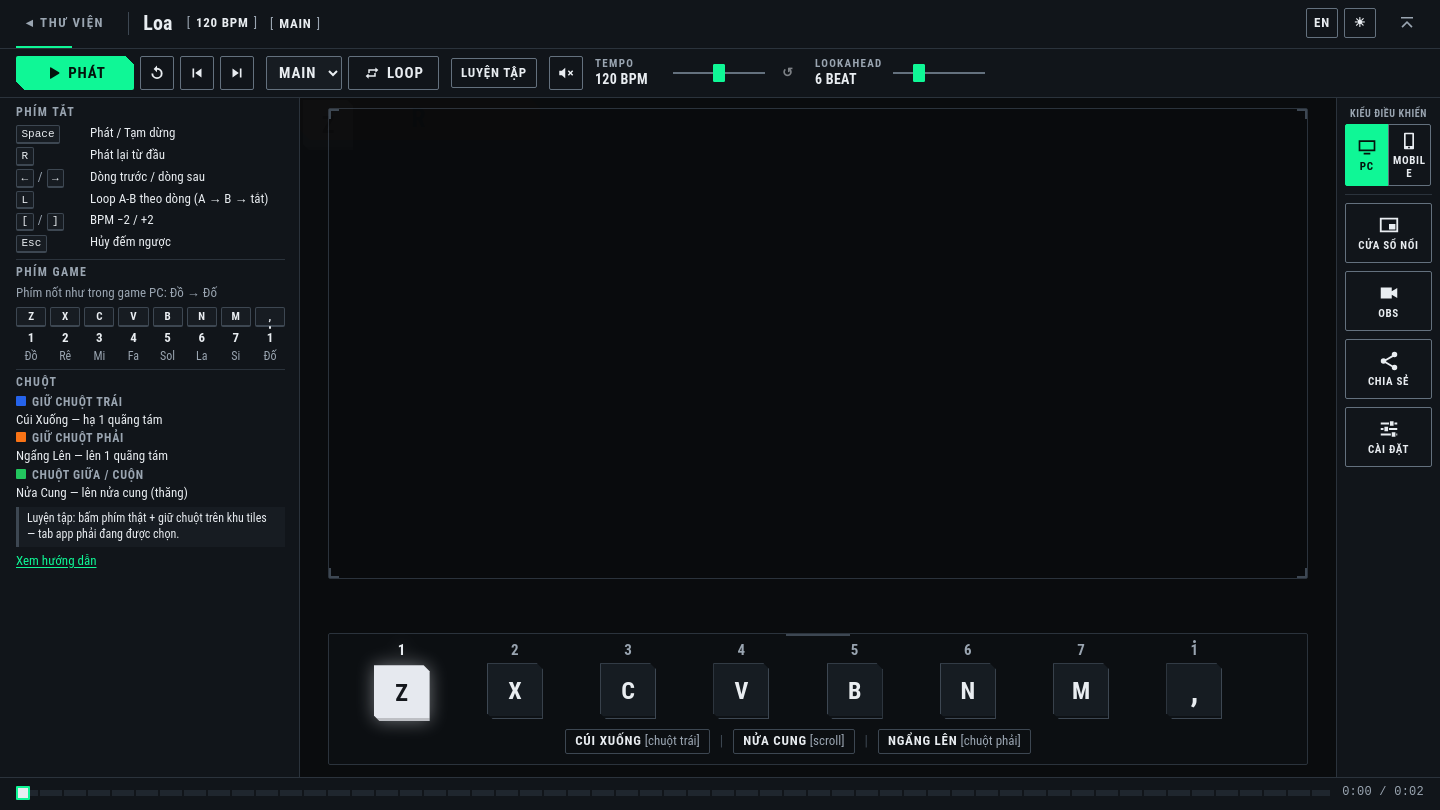
Test: màn chơi — nút loa (giai điệu mẫu) › "Tôi hiểu, bật" → bật (qua engine — mở khóa âm thanh trong cú bấm) + huy hiệu đỏ; tooltip thành "Tắt tiếng"
Press the mouse on the button named "Tiếng giai điệu" at (566, 73), box [549,56,583,90]
Press the mouse on the button named "Tiếng giai điệu" at (566, 73), box [549,56,583,90]
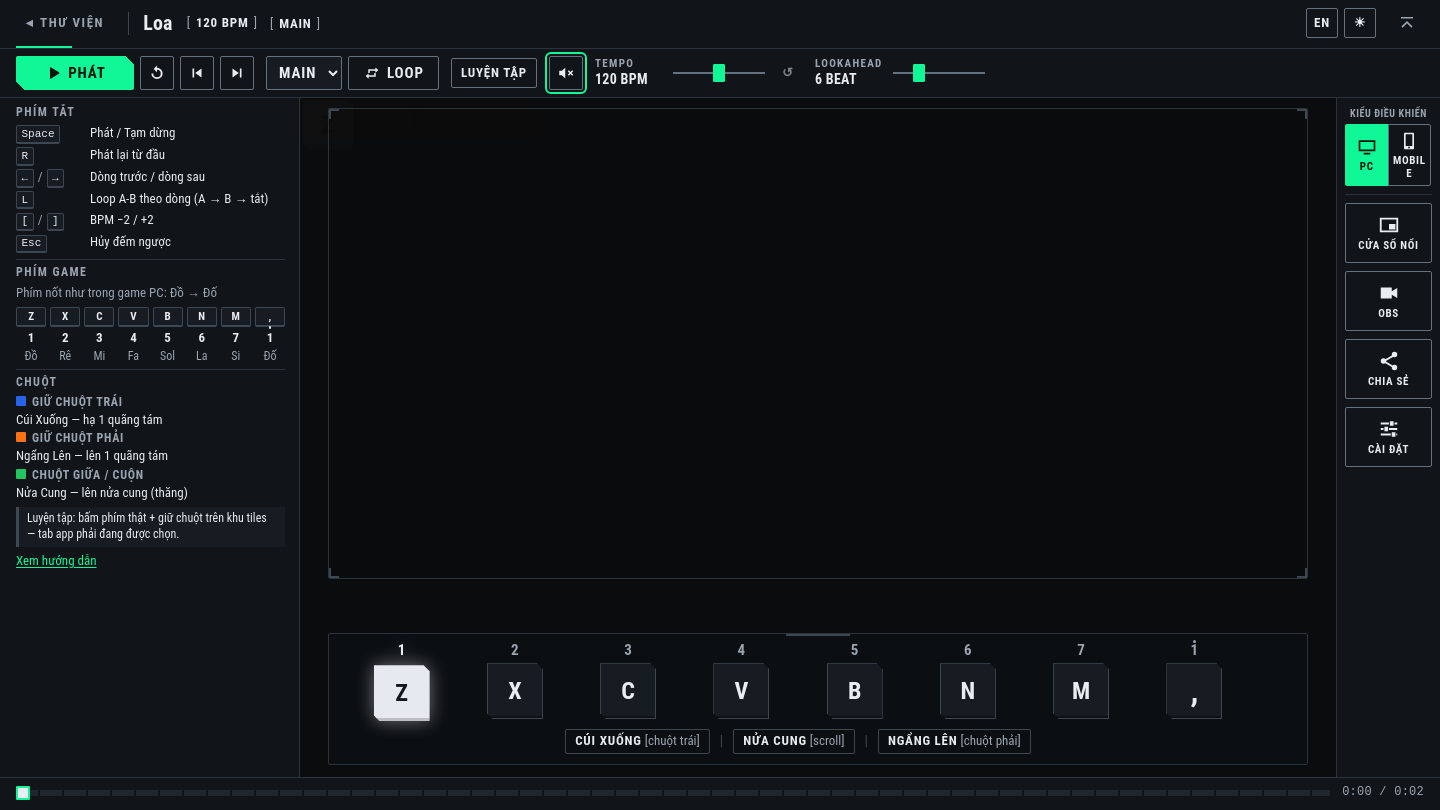
Click the button named "Tiếng giai điệu" at (566, 73), box [549,56,583,90]
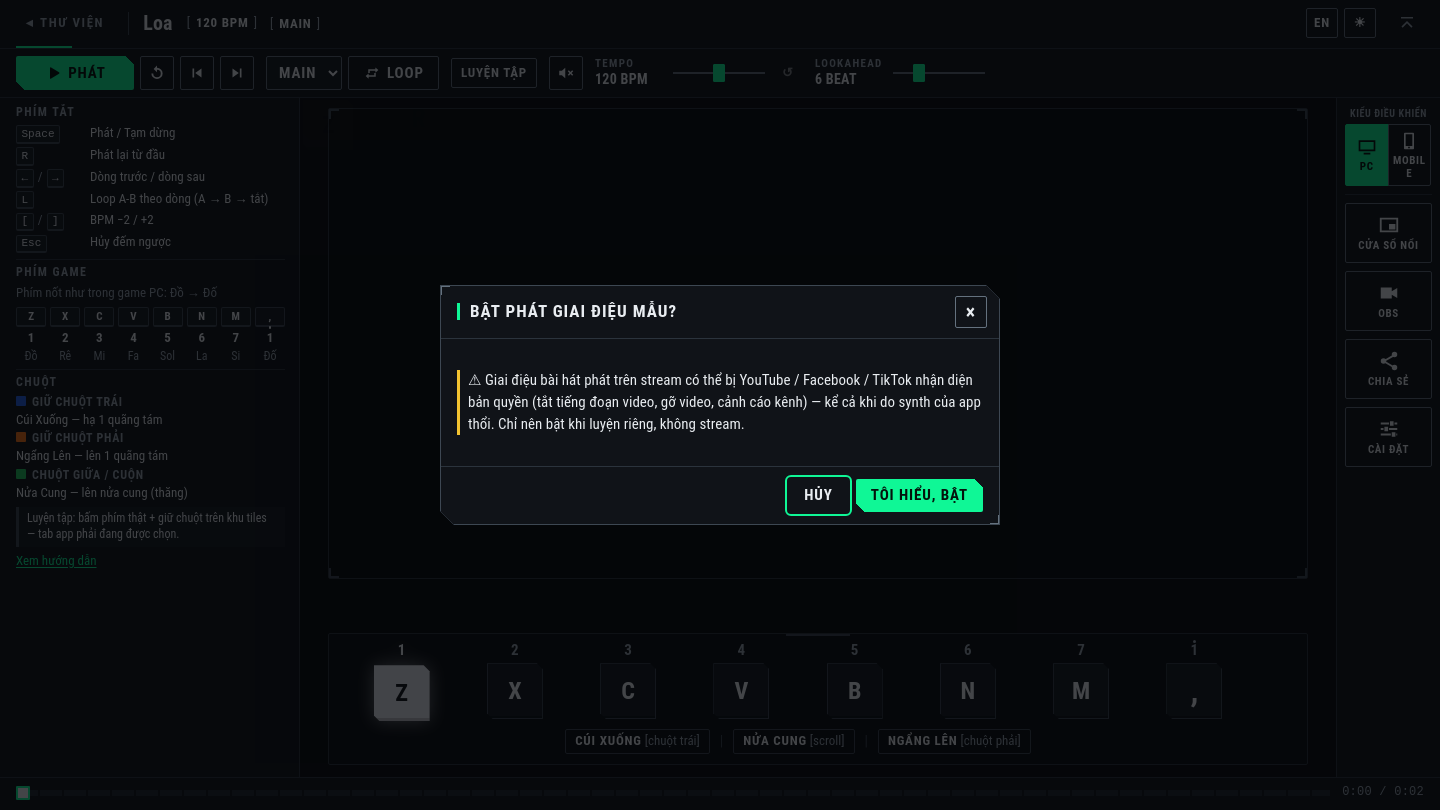
Click the button "Tôi hiểu, bật" at (919, 496), box [856,479,983,512]
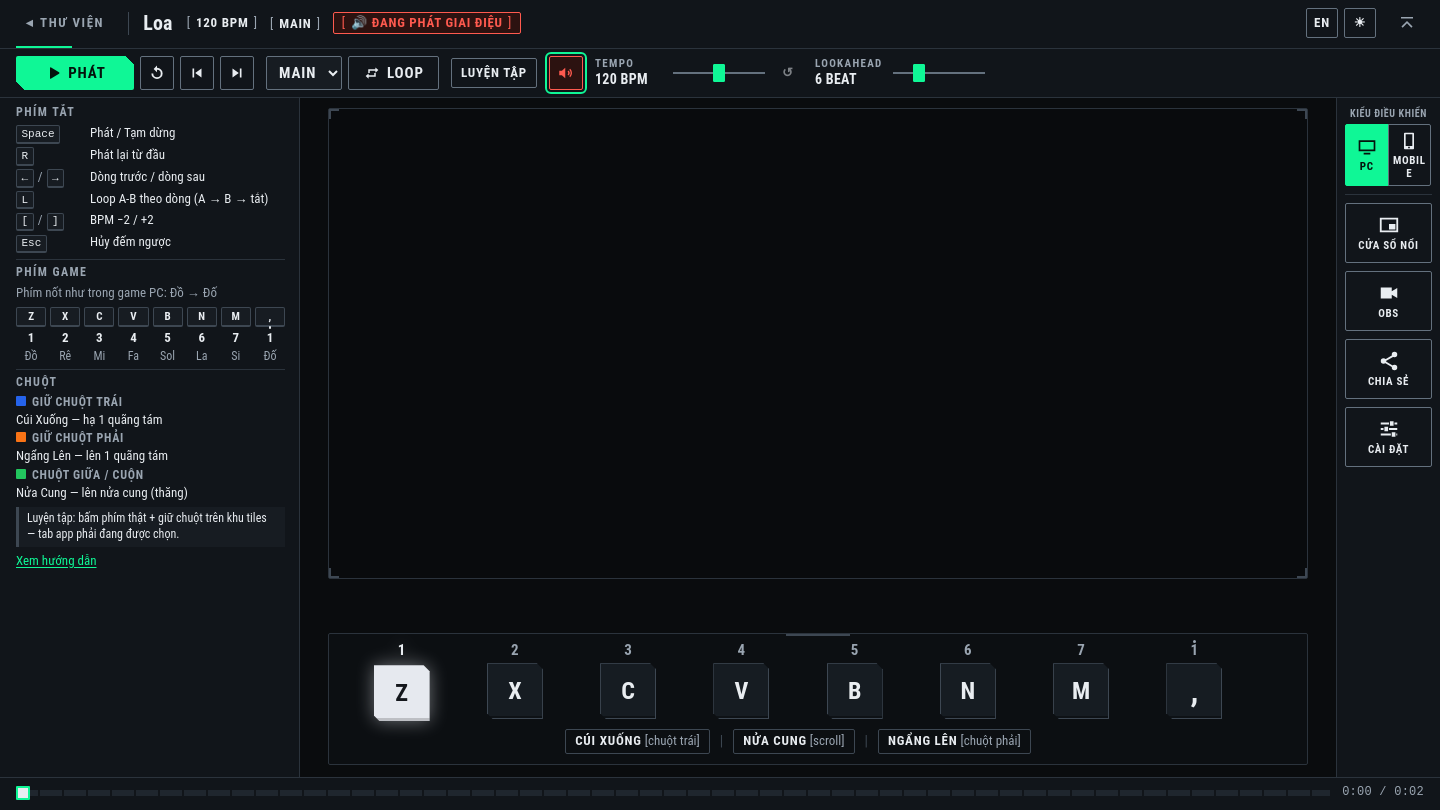
Check: the heading "Bật phát giai điệu mẫu?" is gone
Check: the text "🔊 Đang phát giai điệu" is shown, box [351,14,503,32]
